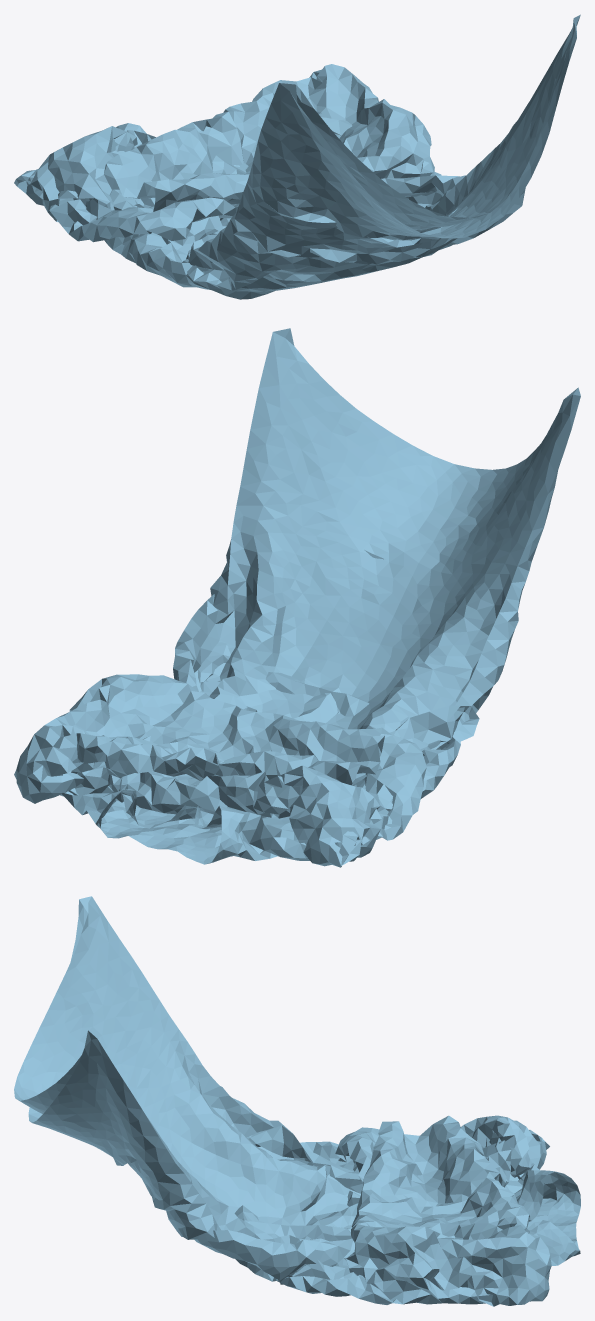
File: frame_05.glb
3 views of the same model, one above another, from view 1: azimuth 30°, elevation 25°; view 2: azimuth 150°, elevation 25°; view 3: azimuth 270°, elevation 25° (orthographic). The views are drawn at different scales.
Visible parts, largest first — view 1: frame_05.obj; view 2: frame_05.obj; view 3: frame_05.obj.
Boxes of the visible parts, left/top/right/bottom form: frame_05.obj: left=14, top=14, right=580, bottom=299; frame_05.obj: left=14, top=328, right=580, bottom=867; frame_05.obj: left=14, top=896, right=580, bottom=1306.
Bounding box in the file's own units: 0.9302 × 0.776 × 1.44.
